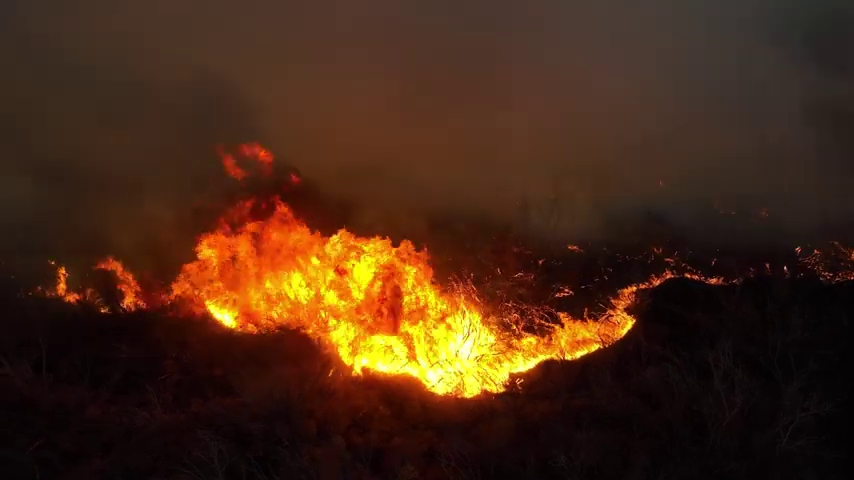forest_fire: (97, 201, 676, 397), (222, 144, 272, 180), (53, 267, 93, 302), (688, 275, 724, 283)
